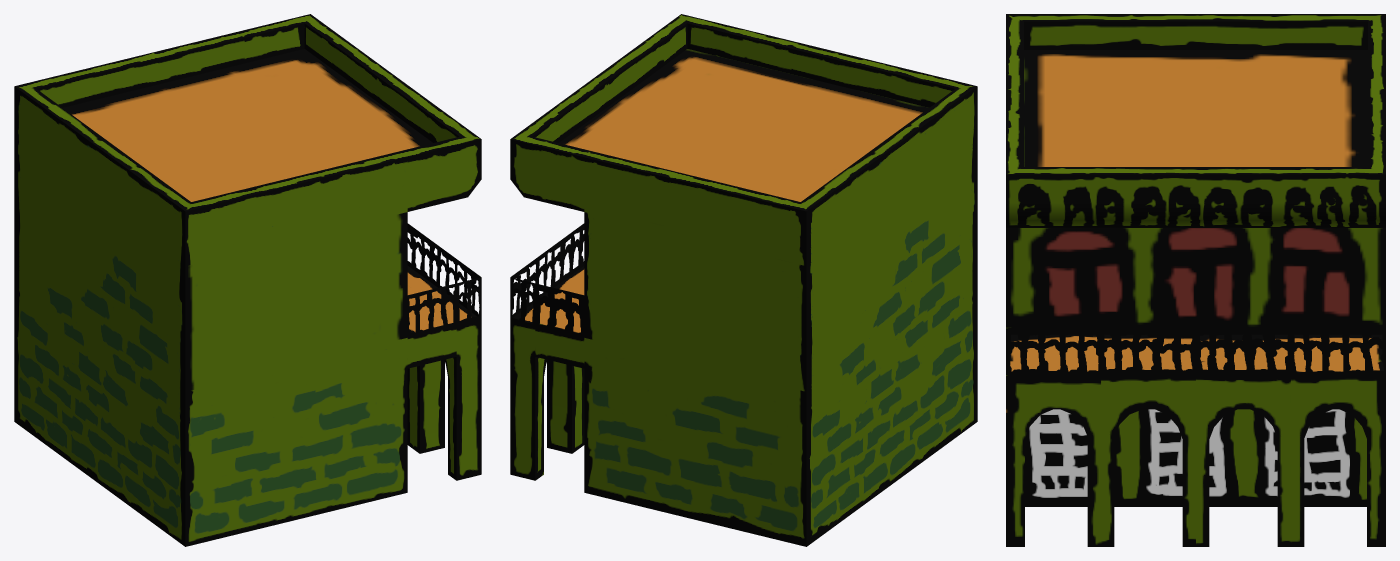
File: SM_GreenBuilding1.fbx
3 views of the same model, side by side, from view 1: azimuth 30°, elevation 25°; view 2: azimuth 150°, elevation 25°; view 3: azimuth 270°, elevation 25° (orthographic). The views are drawn at different scales.
Visible parts, largest first — view 1: pCube1; view 2: pCube1; view 3: pCube1.
Part boxes in pixels (x1,y1,x2,y2): pCube1: [14, 14, 481, 546]; pCube1: [510, 14, 977, 546]; pCube1: [1006, 14, 1385, 546].
Size of the model in its own units: 400 by 433 by 400.
